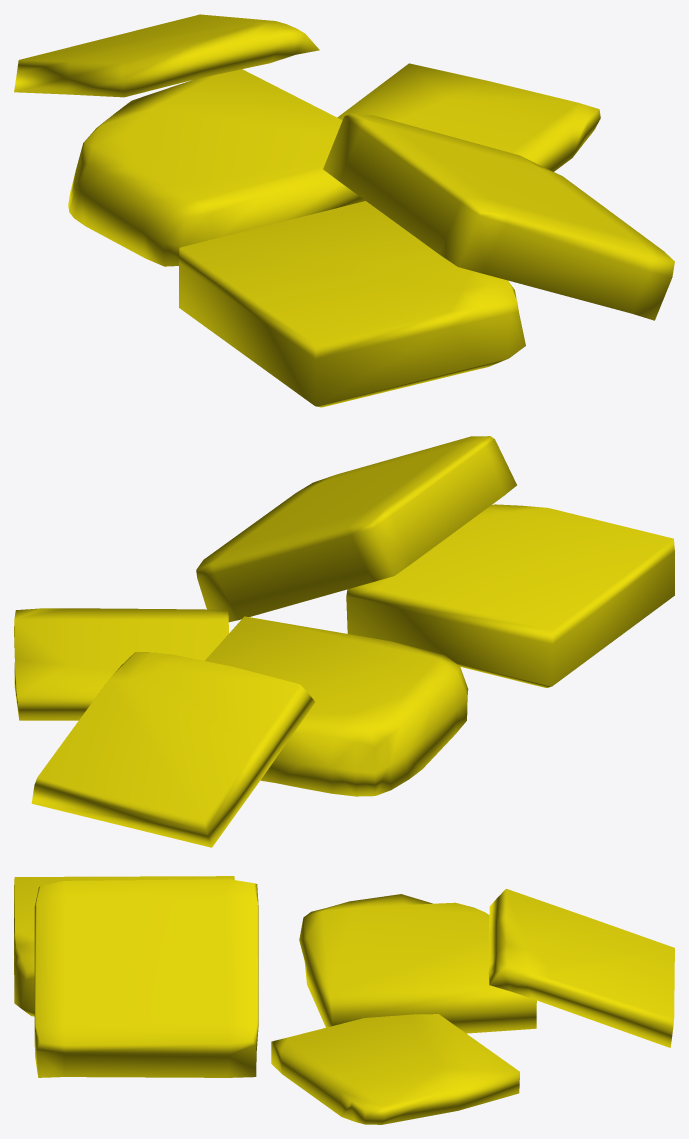
File: Pillar_Pile_01.fbx
3 renders of one model, top to bottom at view 1: azimuth 30°, elevation 25°; view 2: azimuth 150°, elevation 25°; view 3: azimuth 270°, elevation 25°, orthographic. The views are drawn at different scales.
Visible parts, largest first — view 1: Pillar_Pile_01; view 2: Pillar_Pile_01; view 3: Pillar_Pile_01.
Boxes of the visible parts, x1,y1,x2,y2 form: Pillar_Pile_01: (14, 14, 674, 407); Pillar_Pile_01: (14, 436, 674, 847); Pillar_Pile_01: (14, 876, 674, 1124).
Bounding box in the file's own units: 1261 × 392 × 1754.
